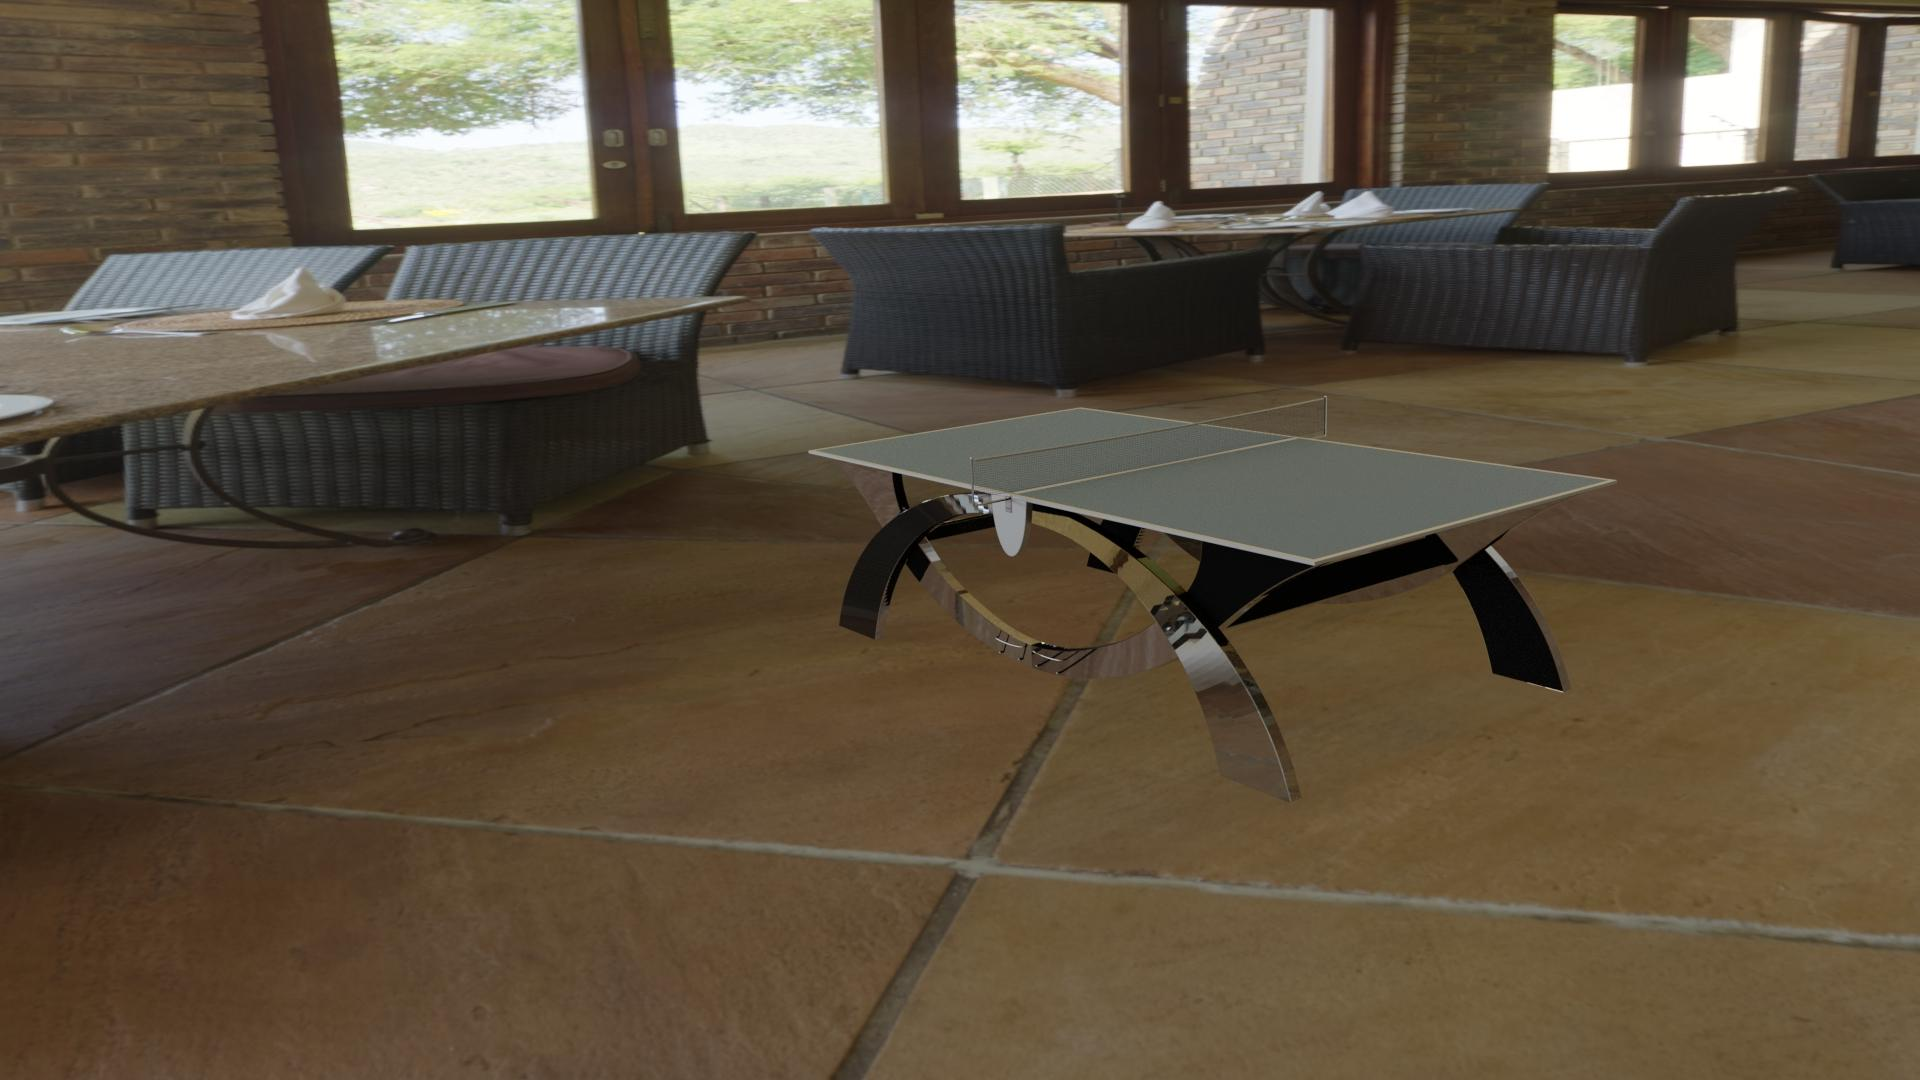table: (815, 409, 1609, 559)
